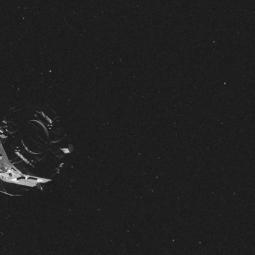lisa_pathfinder: (0, 91, 84, 214)
